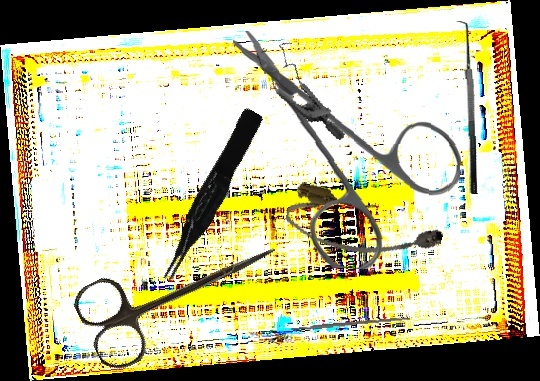Cannula: (281, 179, 447, 276)
Iris Scissors: (221, 30, 467, 274), (68, 204, 293, 377)
Scalpel Handle: (291, 315, 410, 332)
Spatula Surgical: (452, 20, 479, 195)
Speculum: (238, 33, 368, 141)
Tissue Forceps: (148, 106, 272, 285)
